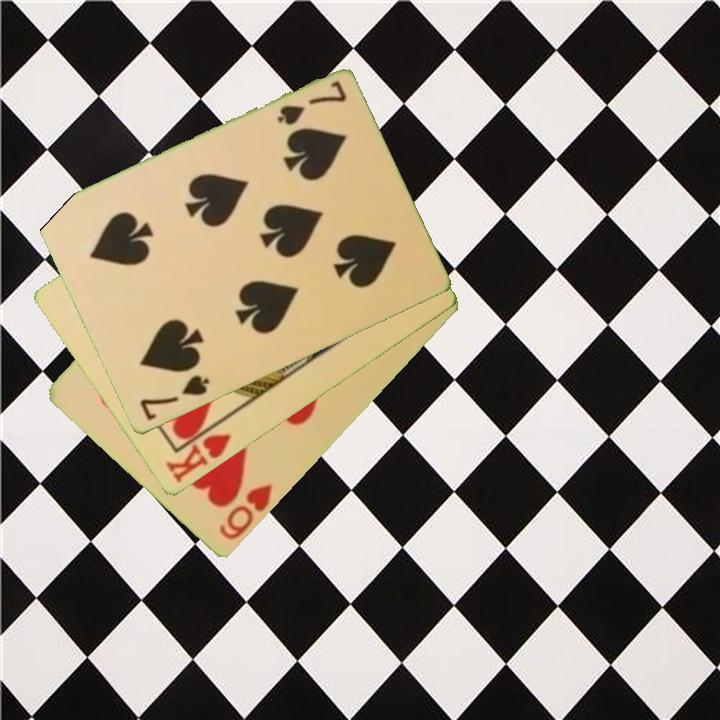6h: (216, 480, 275, 544)
7s: (273, 77, 350, 129), (136, 372, 212, 424)
Kh: (162, 416, 234, 487)
